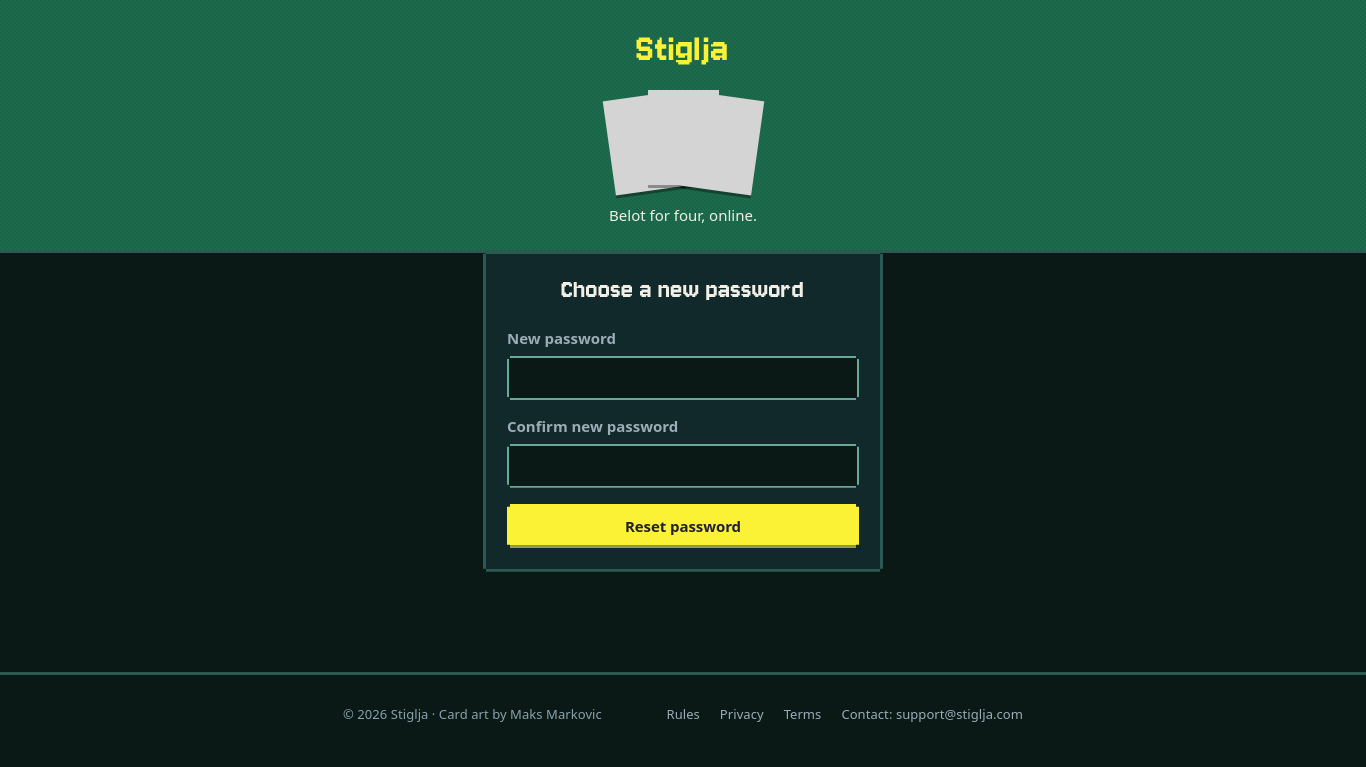
Scenario: ResetPasswordPage › a failure with no usable answer (status 0) offers a new link
Type "brand-new-pass" into the password field labelled "New password".
click(683, 378); type("brand-new-pass")  # box [507,356,859,400]
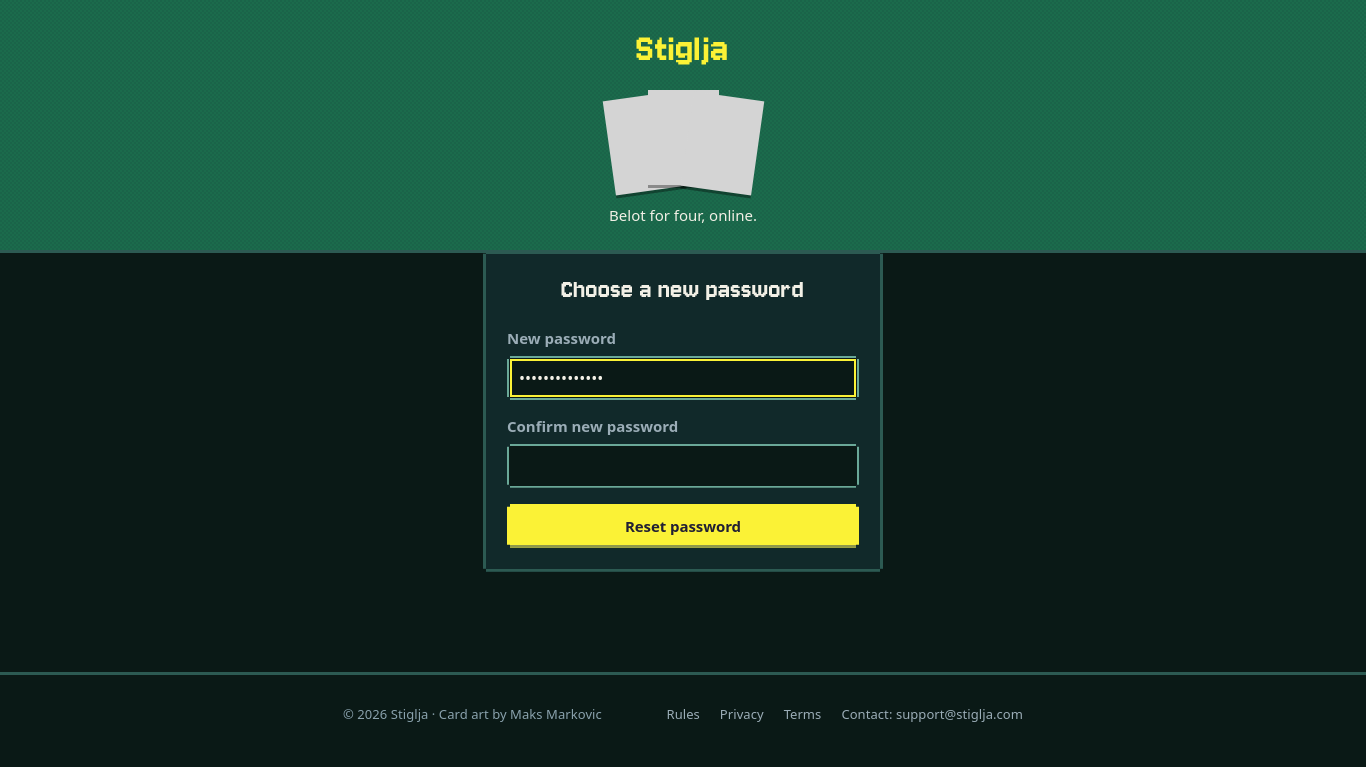
Type "brand-new-pass" into the password field labelled "Confirm new password".
click(683, 466); type("brand-new-pass")  # box [507,444,859,488]
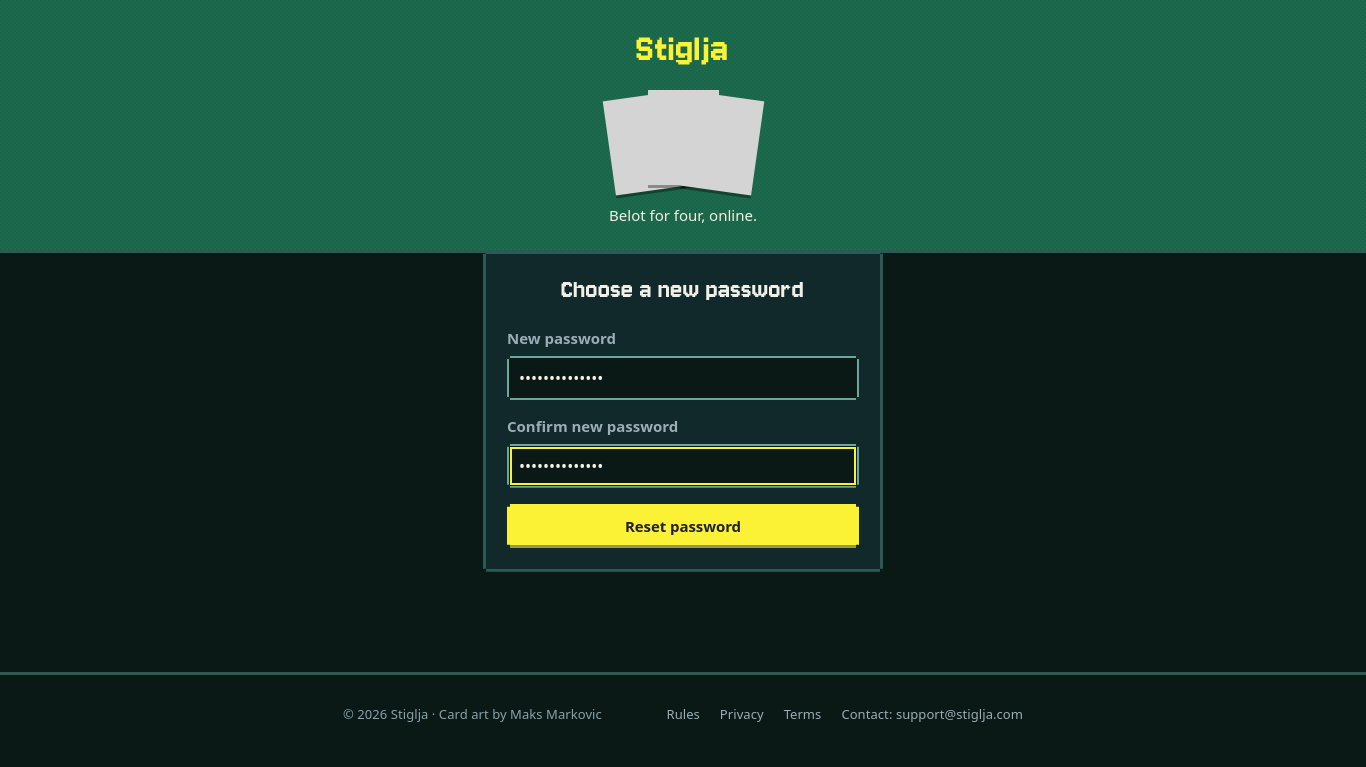
Click the button "Reset password".
click(683, 526)  # box [507,504,859,548]
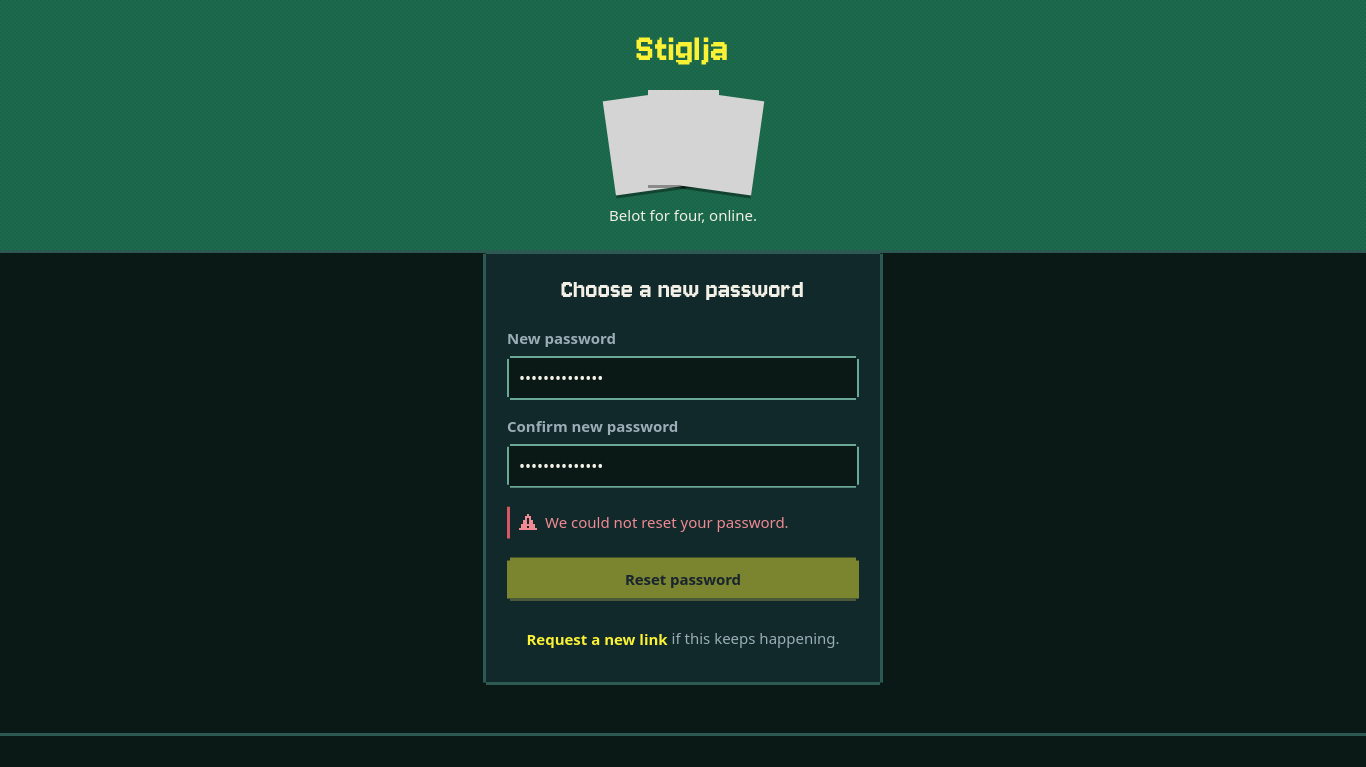
Now the message reads "We could not reset your password.", box [545,512,789,532]
Now the button "Reset password" is disabled, box [507,557,859,601]
Now the text "Request a new link if this keeps happening." is shown, box [526,628,840,648]
